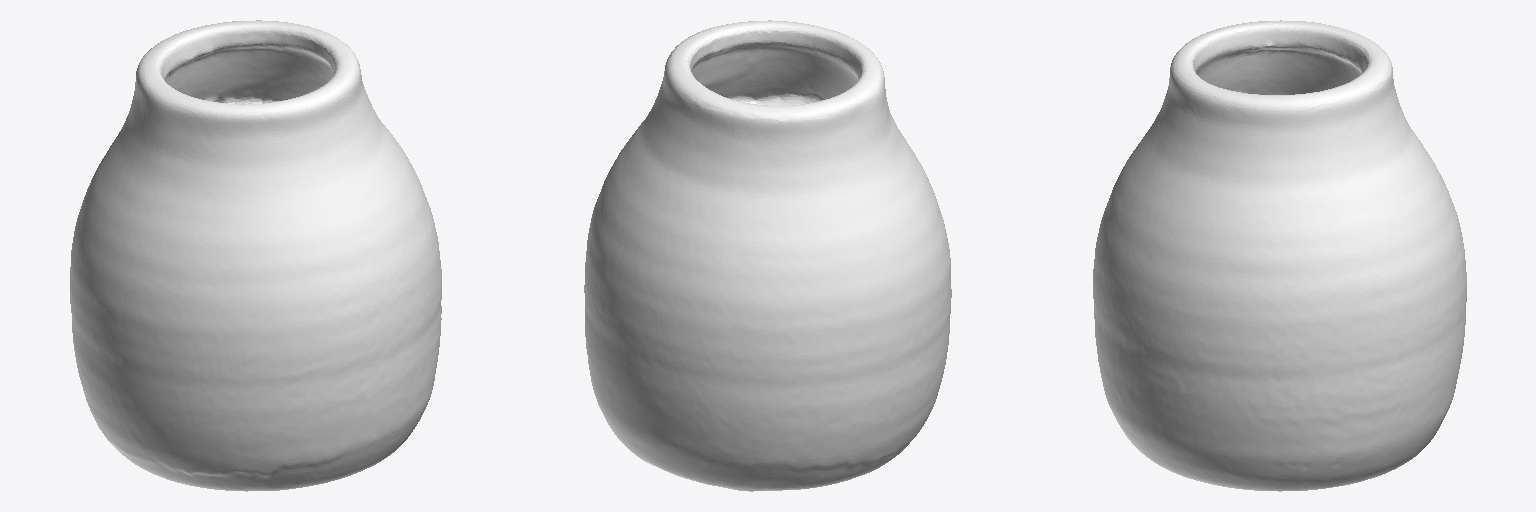
URDF robot description (model.urdf):
<robot name="model.urdf">
    <link name="baseLink">
        <contact>
            <lateral_friction value="0.5"/>
            <rolling_friction value="1"/>
            <spinning_friction value="1"/>
            <contact_cfm value="0.0"/>
            <contact_erp value="1.0"/>
        </contact>
        <inertial>
            <origin rpy="0 -0.02 0" xyz="0.000 0.000 -0.02"/>
            <mass value="2"/>
            <inertia ixx="1e-3" ixy="0" ixz="0" iyy="1e-3" iyz="0" izz="1e-3"/>
        </inertial>
        <visual>
            <geometry>
                <mesh filename="nontextured.stl" scale="1 1 1"/>
            </geometry>
            <material name="white">
                <color rgba="1 1 1 1"/>
            </material>
        </visual>
        <collision>
            <geometry>
                <mesh filename="nontextured.stl" scale="1 1 1"/>
            </geometry>
        </collision>
    </link>
</robot>

--- Render facts (derived) ---
Views: 3 orthographic renders of the robot side by side, from view 1: azimuth 30°, elevation 25°; view 2: azimuth 150°, elevation 25°; view 3: azimuth 270°, elevation 25°.
Model model.urdf with 1 links and 0 joints (none), rooted at baseLink, posed all joints at 0.
Links seen in each view (by area): view 1: baseLink; view 2: baseLink; view 3: baseLink.
Boxes of the visible links, x1,y1,x2,y2 form: baseLink: (70,20,441,491); baseLink: (584,20,951,491); baseLink: (1093,20,1466,491).
Size in the robot's own frame: 0.0898 by 0.0903 by 0.1013 metres.
Meshes: 1 distinct files referenced, 1 mesh visuals loaded (1 binary STL).